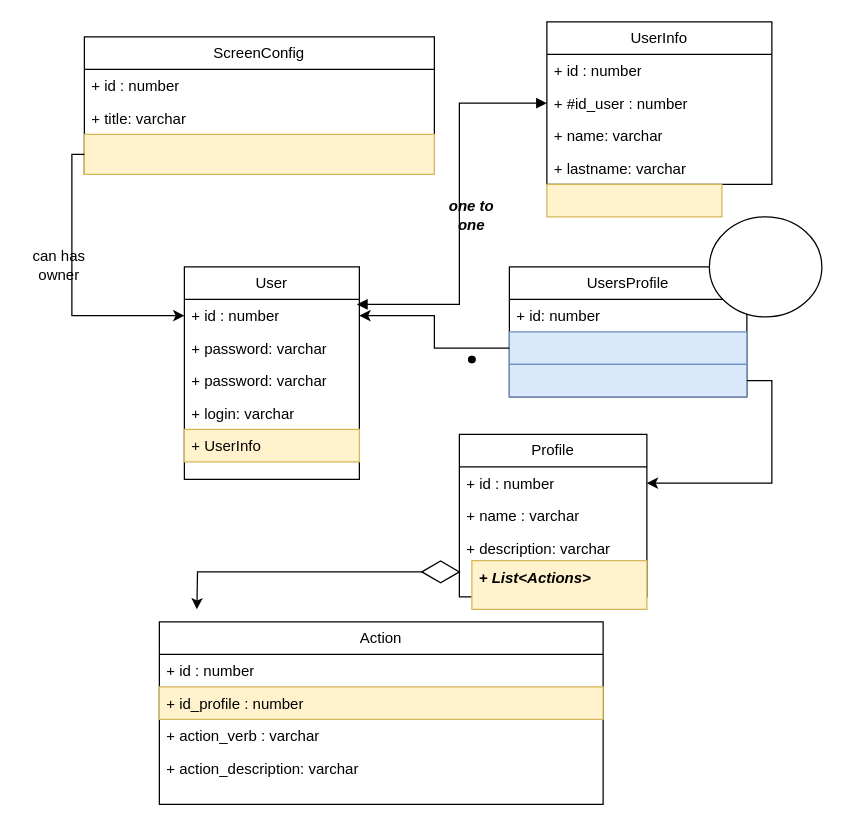
Image size: 844x830. Some labels were removed from this diagram. Here are the shapes that lost their labels. From the top down, the centre of each, then its label:
point 258,153: + #owner
point 634,200: + User
point 765,266: mapping table
point 627,347: + #id_user: number
point 627,380: + #id_profile: number
